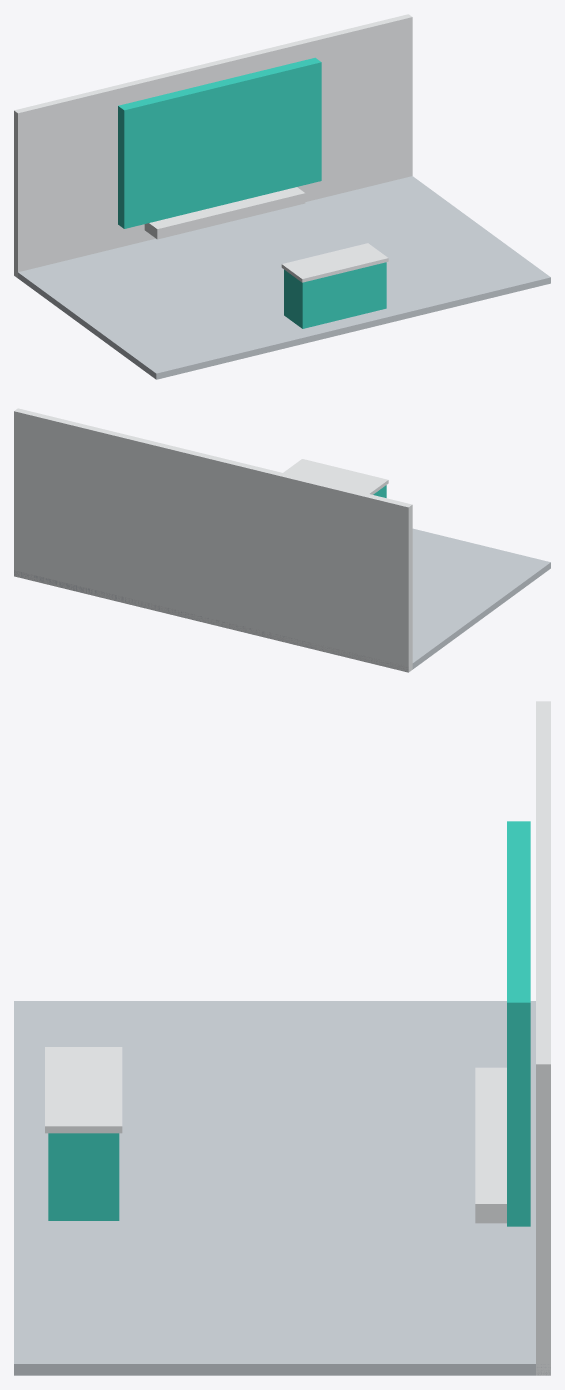
3 views of the same model, one above another, from view 1: azimuth 30°, elevation 25°; view 2: azimuth 150°, elevation 25°; view 3: azimuth 270°, elevation 25° (orthographic). The views are drawn at different scales.
Visible parts, largest first — view 1: Exhibition Booth Concept; view 2: Exhibition Booth Concept; view 3: Exhibition Booth Concept.
Part boxes in pixels (box(x1,y1,x2,y2)): Exhibition Booth Concept: box(14, 14, 550, 379); Exhibition Booth Concept: box(14, 408, 550, 672); Exhibition Booth Concept: box(14, 701, 550, 1375).
Size of the model in its own units: 8 by 3.2 by 5.
